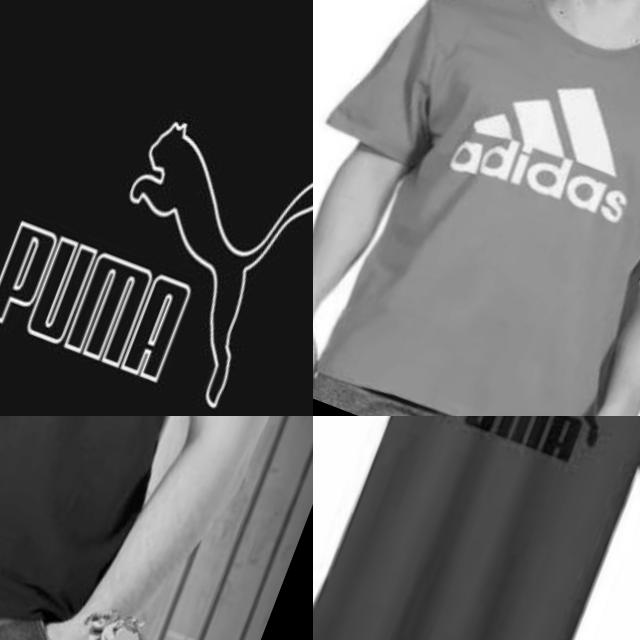ADIDAS_original: (432, 30, 640, 249)
PUMA_fake: (403, 416, 640, 500)
PUMA_original: (0, 41, 313, 416)
